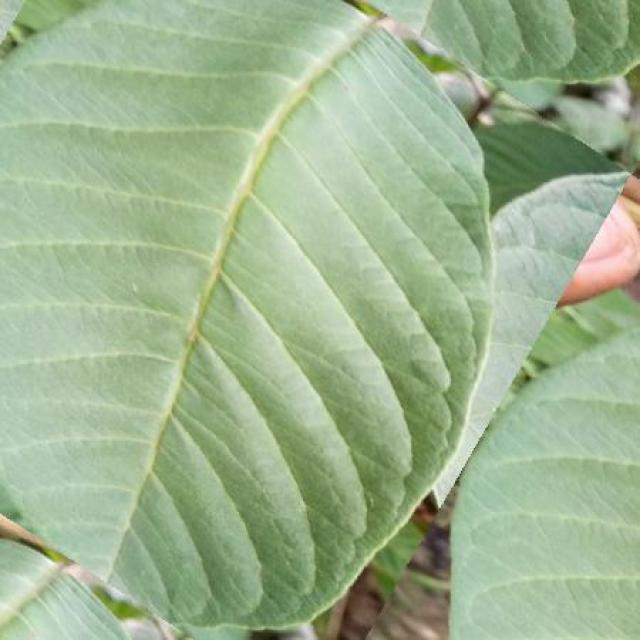Disease Free: (0, 2, 492, 626), (434, 174, 626, 499), (451, 328, 640, 639), (388, 0, 640, 82)
